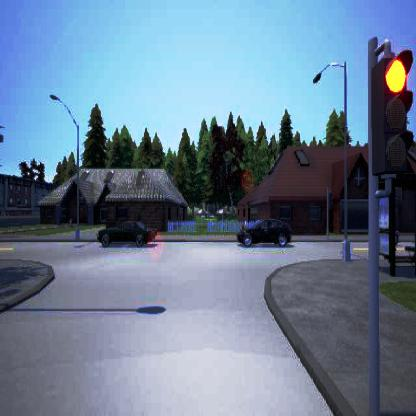vehicle: (96, 220, 155, 246), (236, 218, 290, 246)
